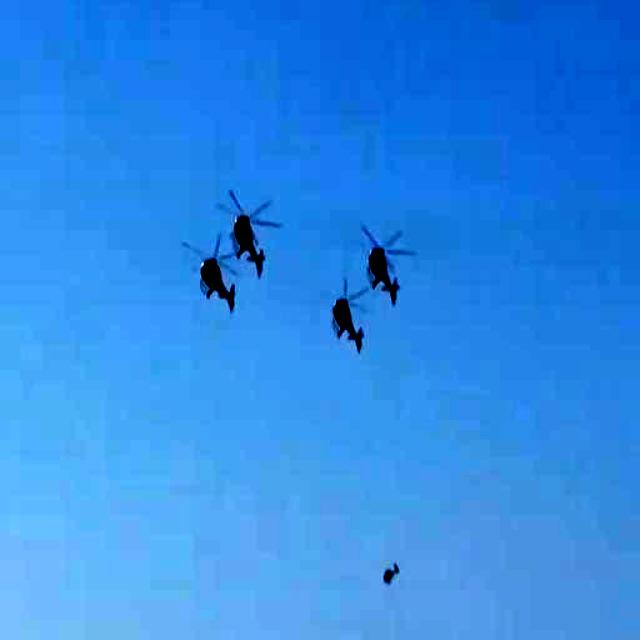drone: (219, 172, 282, 279), (356, 214, 418, 312), (321, 275, 374, 374), (195, 235, 248, 326)
